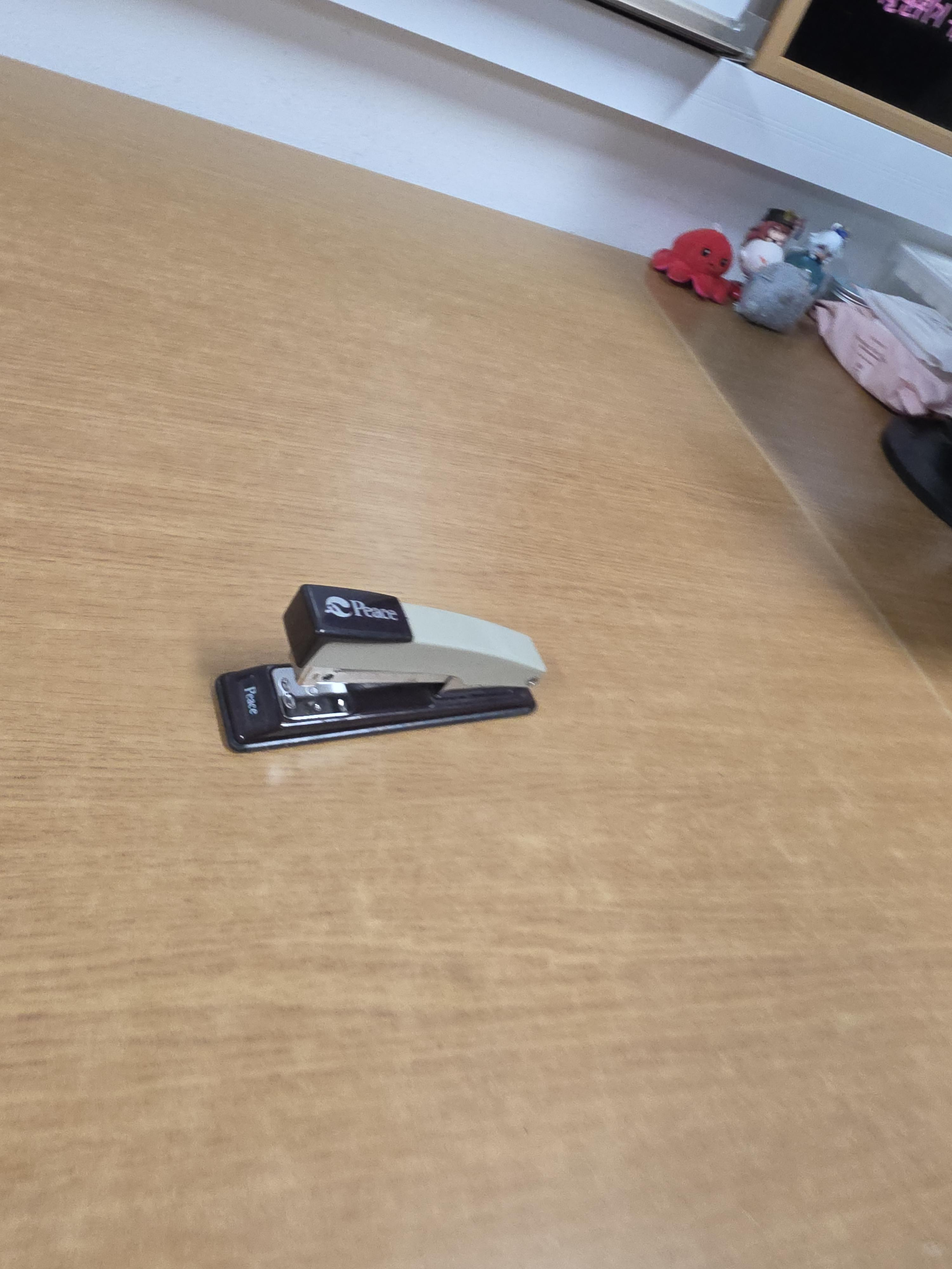stapler: (215, 583, 549, 754)
